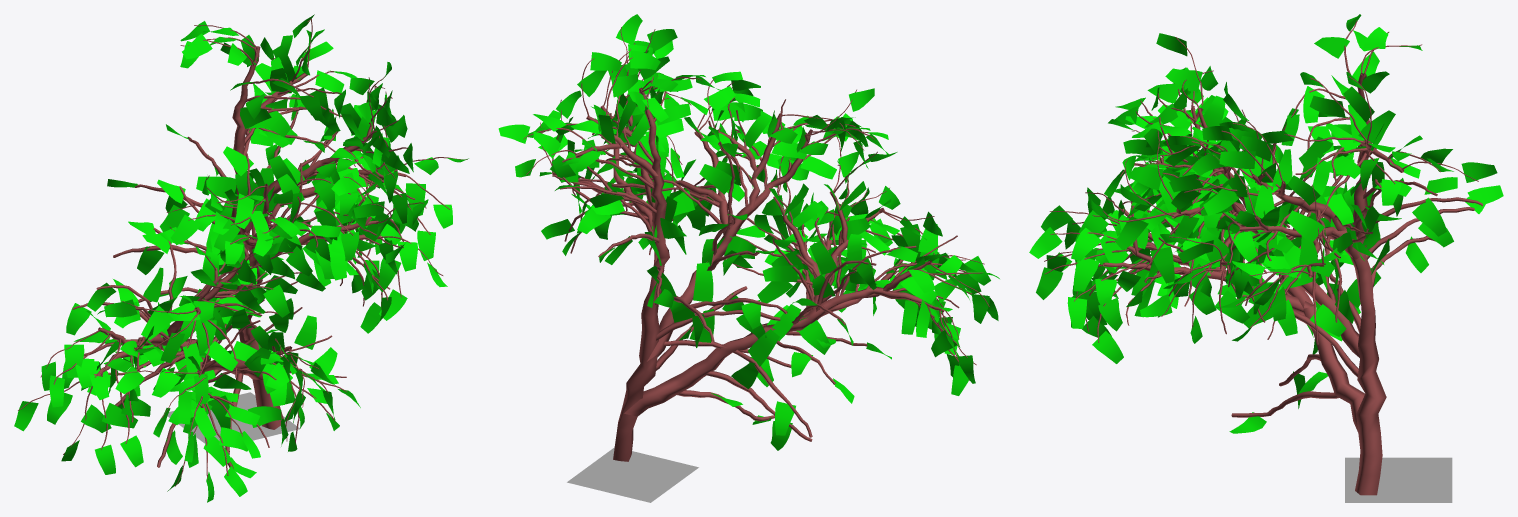
Rendered from Arbol 1.fbx.
3 views of the same model, side by side, from view 1: azimuth 30°, elevation 25°; view 2: azimuth 150°, elevation 25°; view 3: azimuth 270°, elevation 25° (orthographic). The views are drawn at different scales.
Visible parts, largest first — view 1: birchBlowingLight1Leaf, birchBlowingLight1Main, pPlane1; view 2: birchBlowingLight1Leaf, birchBlowingLight1Main, pPlane1; view 3: birchBlowingLight1Leaf, birchBlowingLight1Main, pPlane1.
Part boxes in pixels (<box>): birchBlowingLight1Leaf: <box>14,14,468,502</box>; birchBlowingLight1Main: <box>18,19,467,486</box>; pPlane1: <box>167,392,300,447</box>; birchBlowingLight1Leaf: <box>498,14,999,450</box>; birchBlowingLight1Main: <box>523,27,989,461</box>; pPlane1: <box>567,447,698,502</box>; birchBlowingLight1Leaf: <box>1029,14,1503,433</box>; birchBlowingLight1Main: <box>1044,20,1482,495</box>; pPlane1: <box>1345,457,1452,502</box>.
Size of the model in its own units: 5.2 by 4.54 by 4.42.
